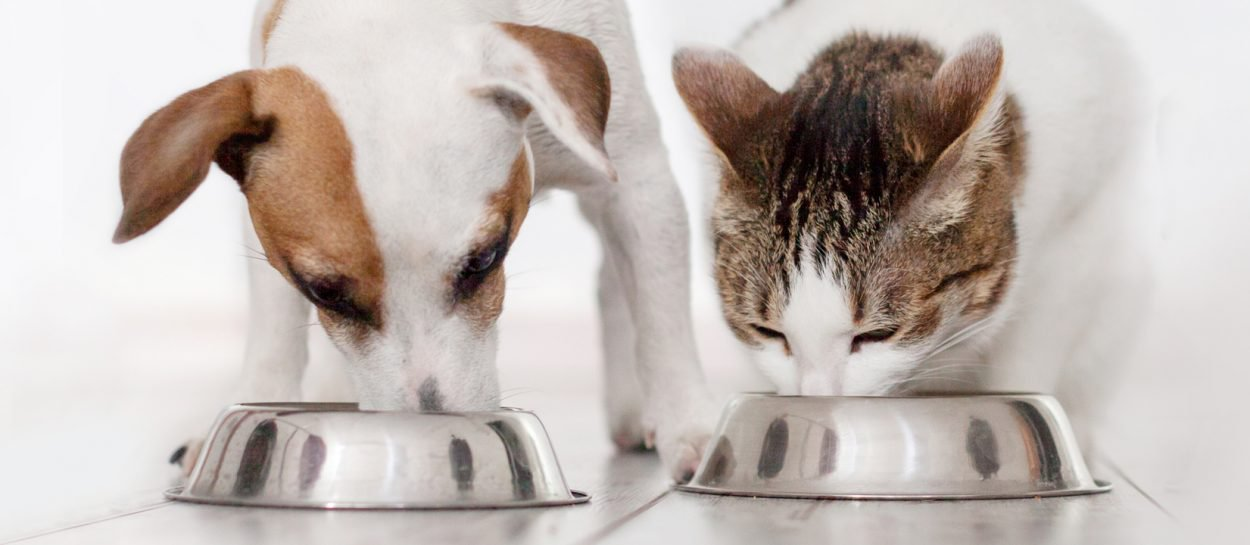cat: (669, 1, 1170, 457)
dog: (130, 9, 702, 476)
